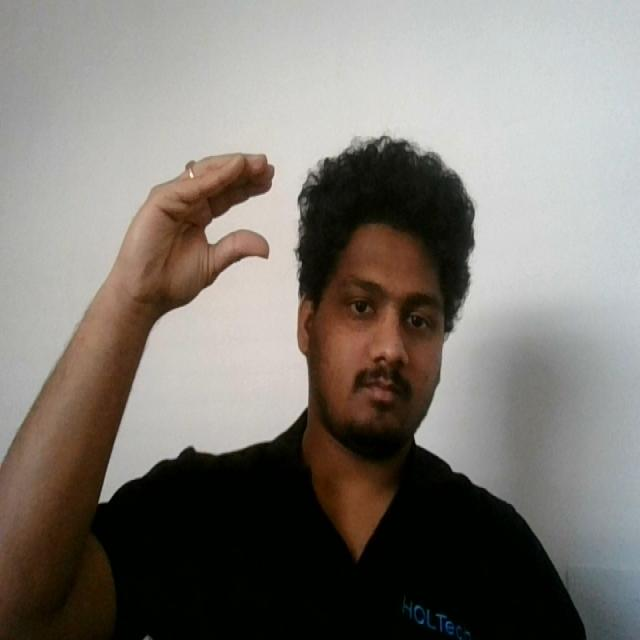No: (105, 145, 278, 319)
